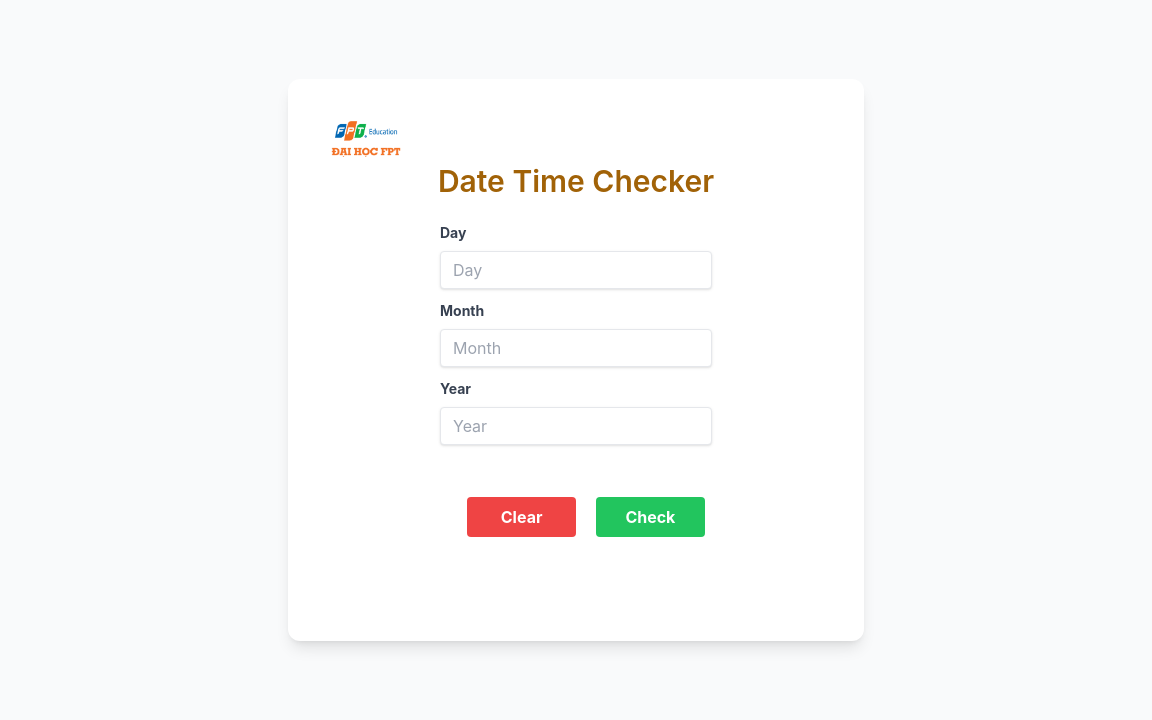
Test: Check function: › should show dialog: Input data for Day is out of range
Type "300" into the field with placeholder "Day" at (576, 270), box 440,251 -> 712,289
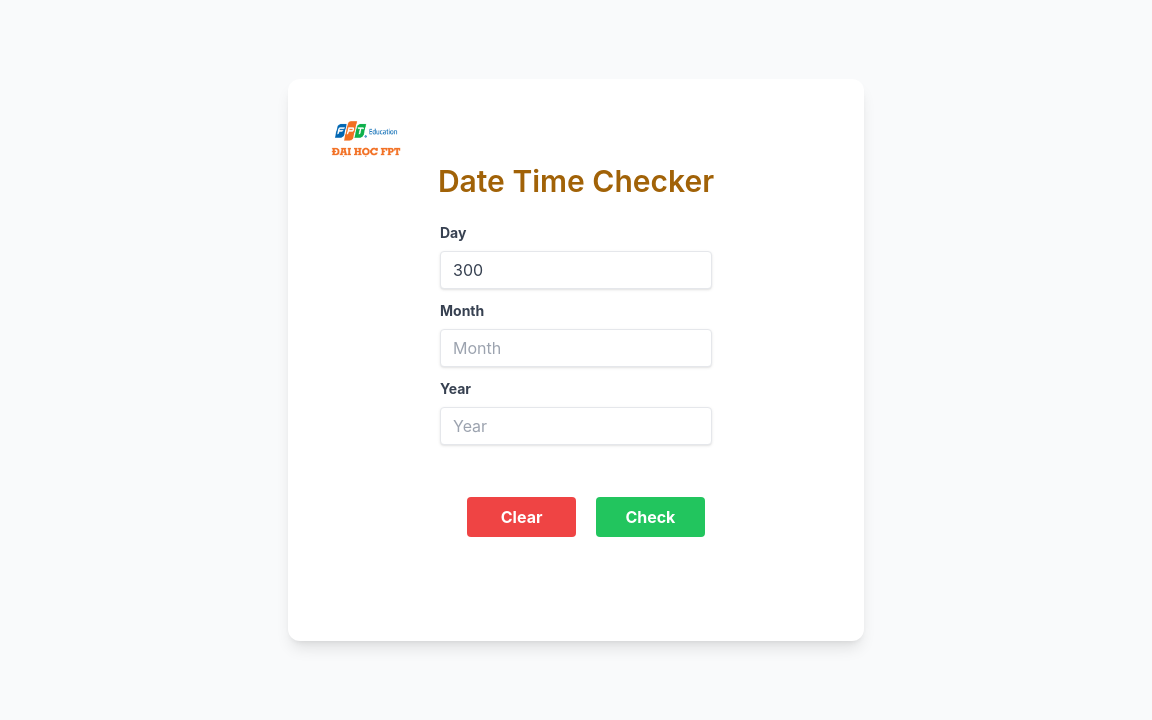
Type "12" into the field with placeholder "Month" at (576, 348), box 440,329 -> 712,367
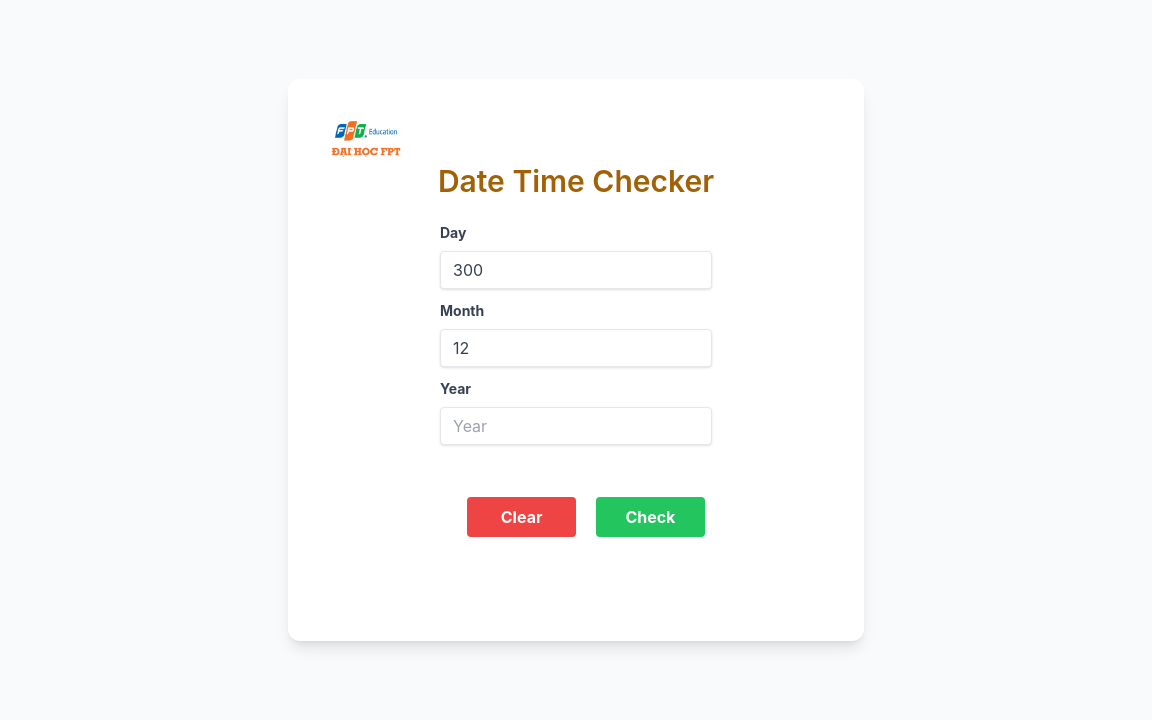
Type "2001" into the field with placeholder "Year" at (576, 426), box 440,407 -> 712,445
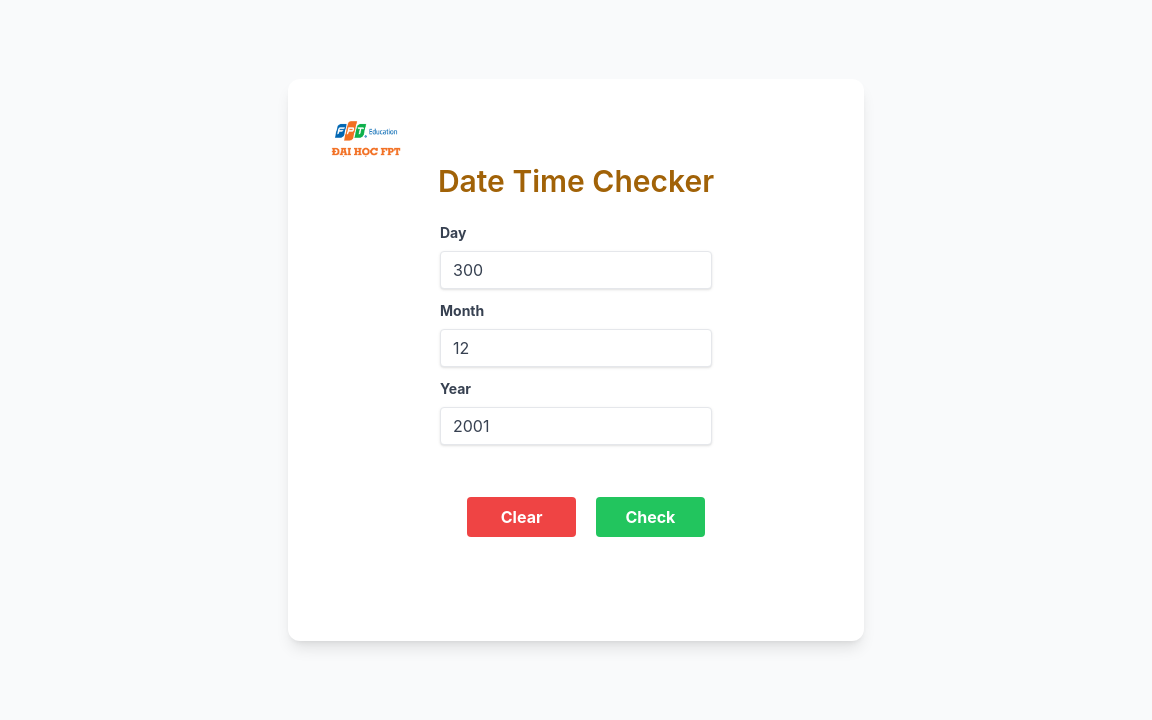
Click the button "Check" at (651, 517), box 596,497 -> 705,537
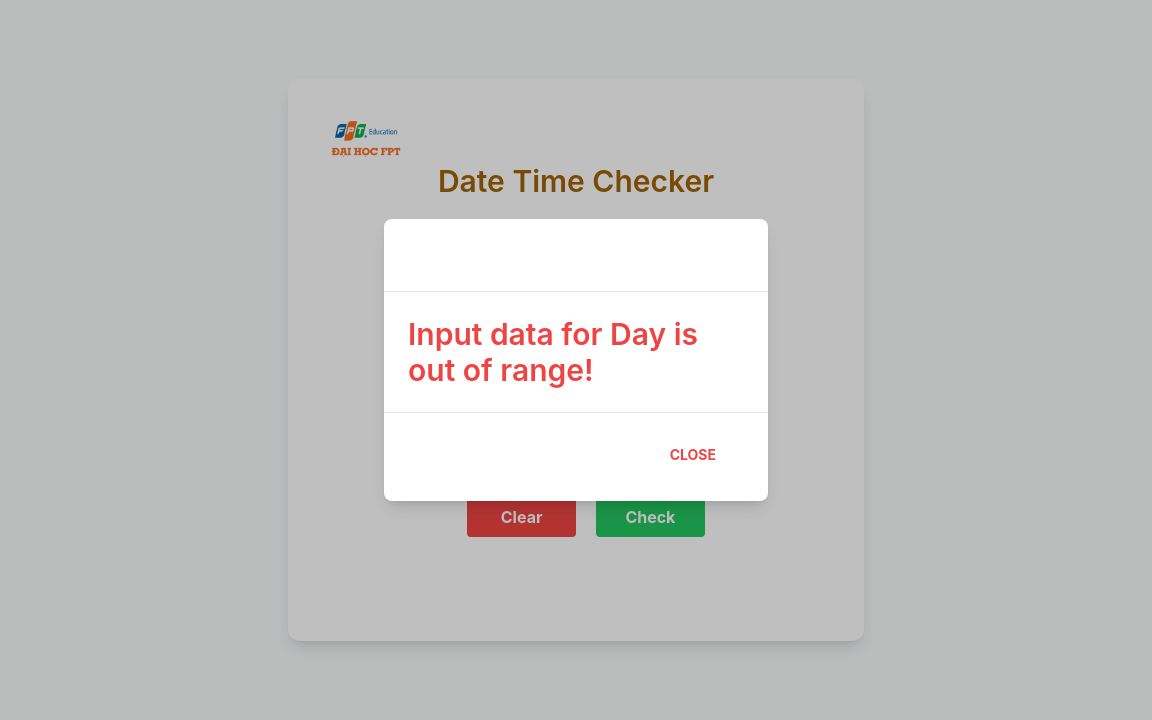
Result: the element showing "Input data for Day is out of range!" is shown at 408,316 -> 698,388
